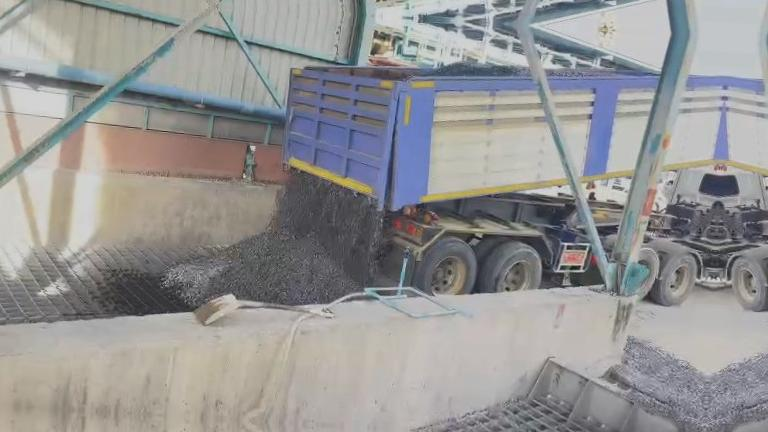gravel: (163, 172, 383, 306), (608, 337, 707, 432), (413, 62, 530, 77), (546, 68, 648, 77)
